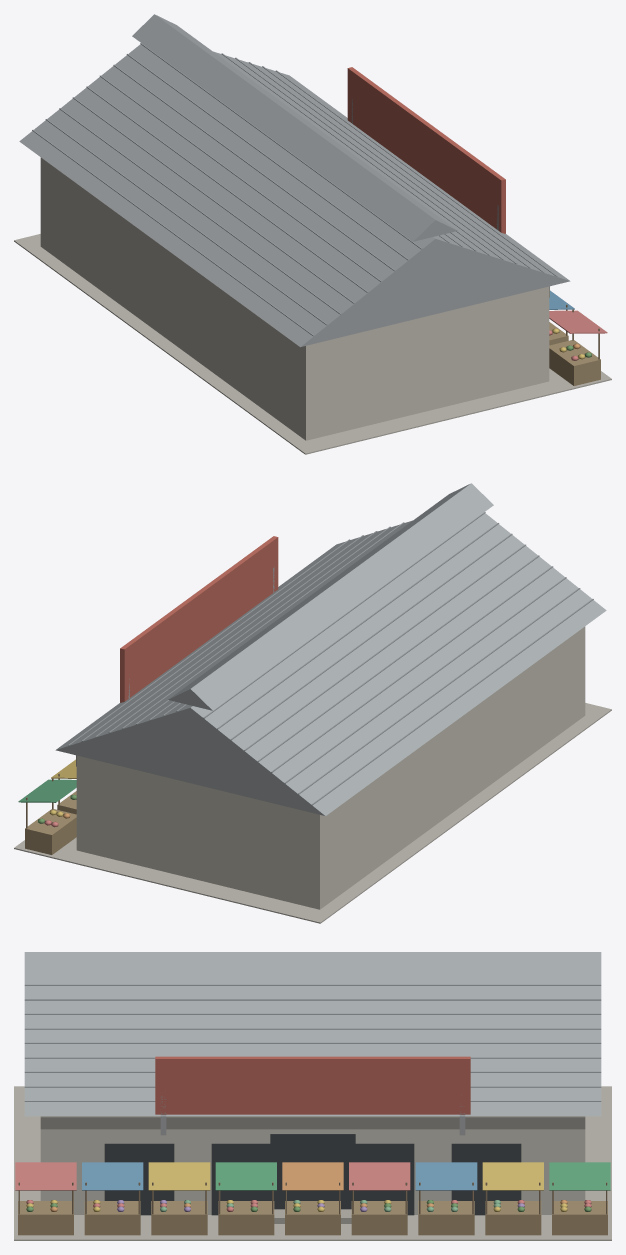
Rendered from lm_pasar.glb.
The picture shows the model from 3 angles, top to bottom: view 1: azimuth 30°, elevation 25°; view 2: azimuth 150°, elevation 25°; view 3: azimuth 270°, elevation 25°; orthographic projection. The views are drawn at different scales.
Parts seen in each view (by area): view 1: main; view 2: main; view 3: main.
Part boxes in pixels (x1,y1,x2,y2): main: (14,14,611,454); main: (14,483,611,923); main: (14,952,611,1240).
Bounding box in the file's own units: 13.6 × 8.4 × 22.4.
